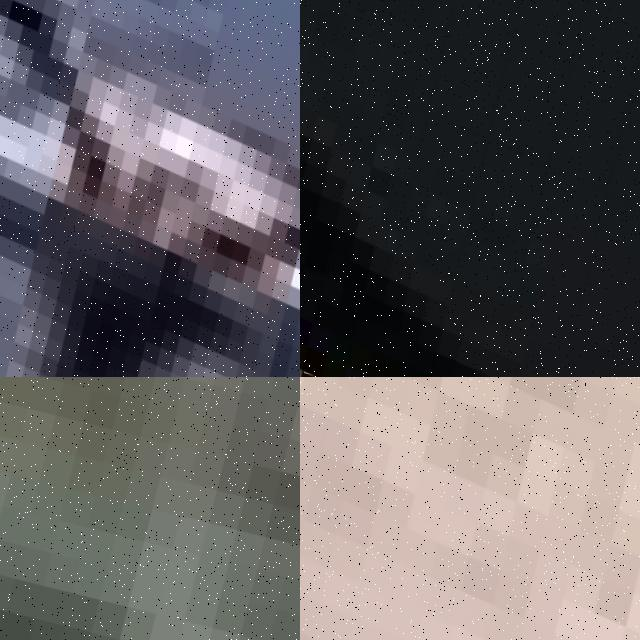drone: (300, 0, 640, 377), (0, 0, 300, 377), (300, 377, 640, 640)
